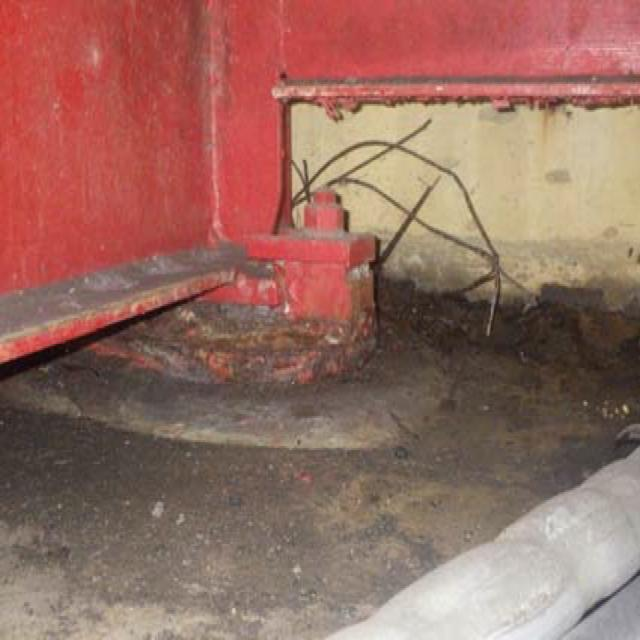corrosion: (97, 230, 403, 413), (266, 60, 636, 144)
